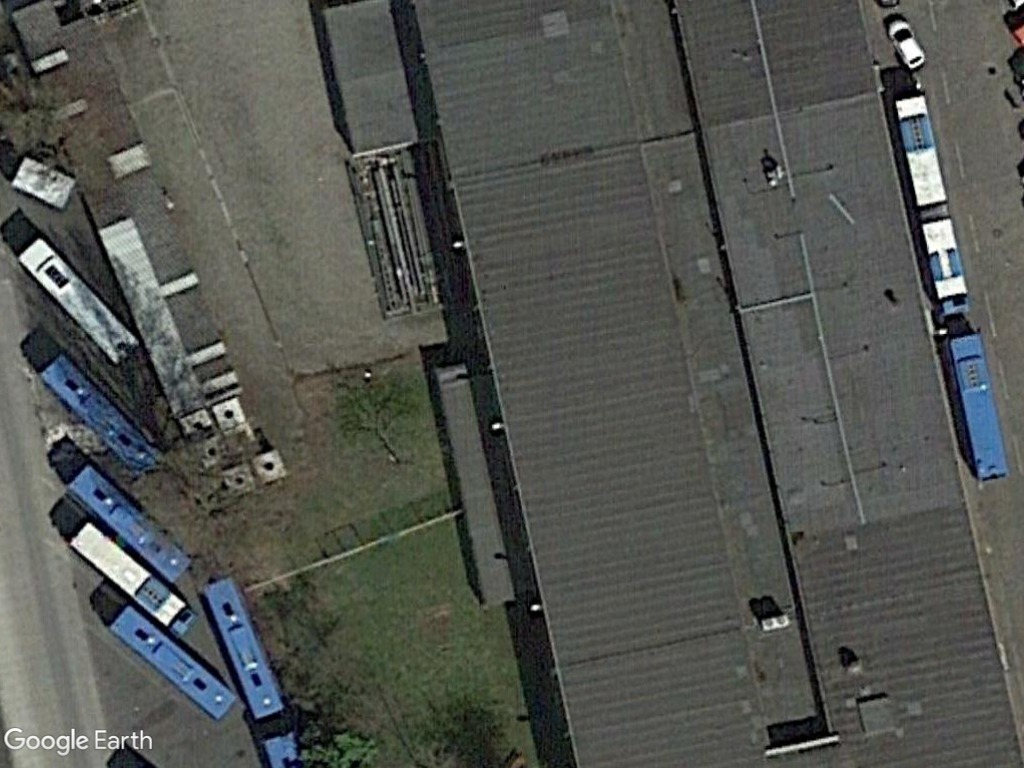bus: (12, 233, 138, 365), (38, 350, 166, 478), (106, 602, 238, 726), (63, 462, 194, 585), (62, 518, 194, 636), (201, 575, 288, 722), (943, 327, 1013, 482), (889, 92, 951, 211), (917, 213, 974, 319)
car: (883, 11, 928, 73)
